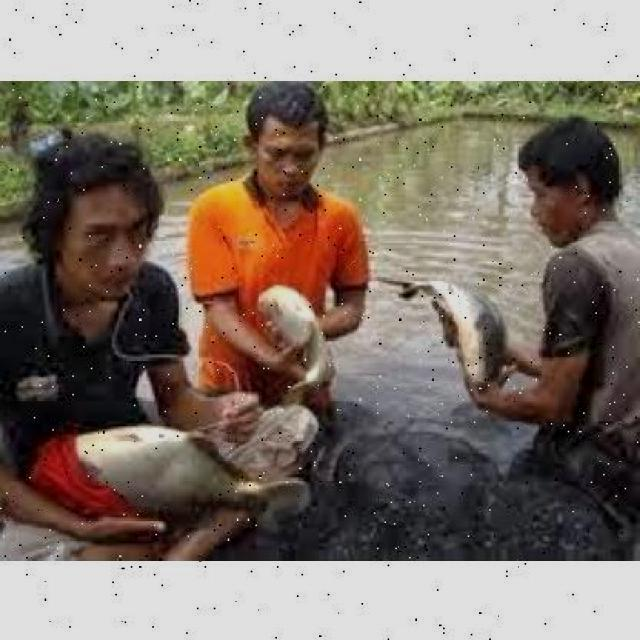ikan-pacu: (386, 266, 506, 386)
